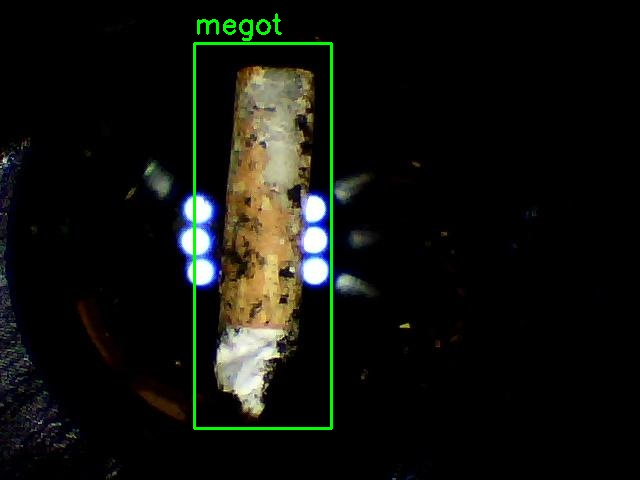megot: (194, 43, 331, 428)
